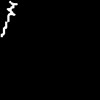double_crochet: (1, 1, 16, 36)
